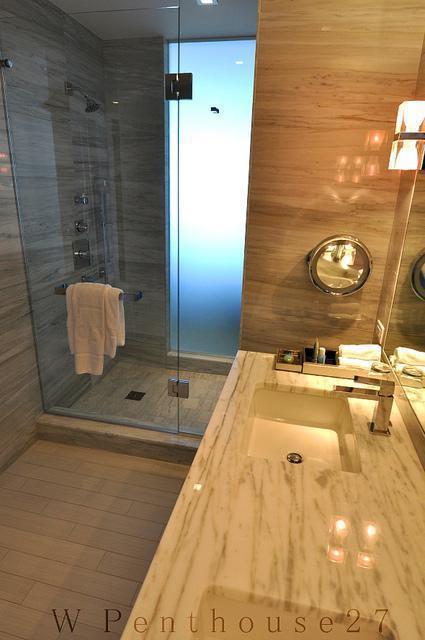Ducha: (0, 3, 247, 459)
Lavamanos: (243, 363, 406, 483), (191, 578, 398, 639)
